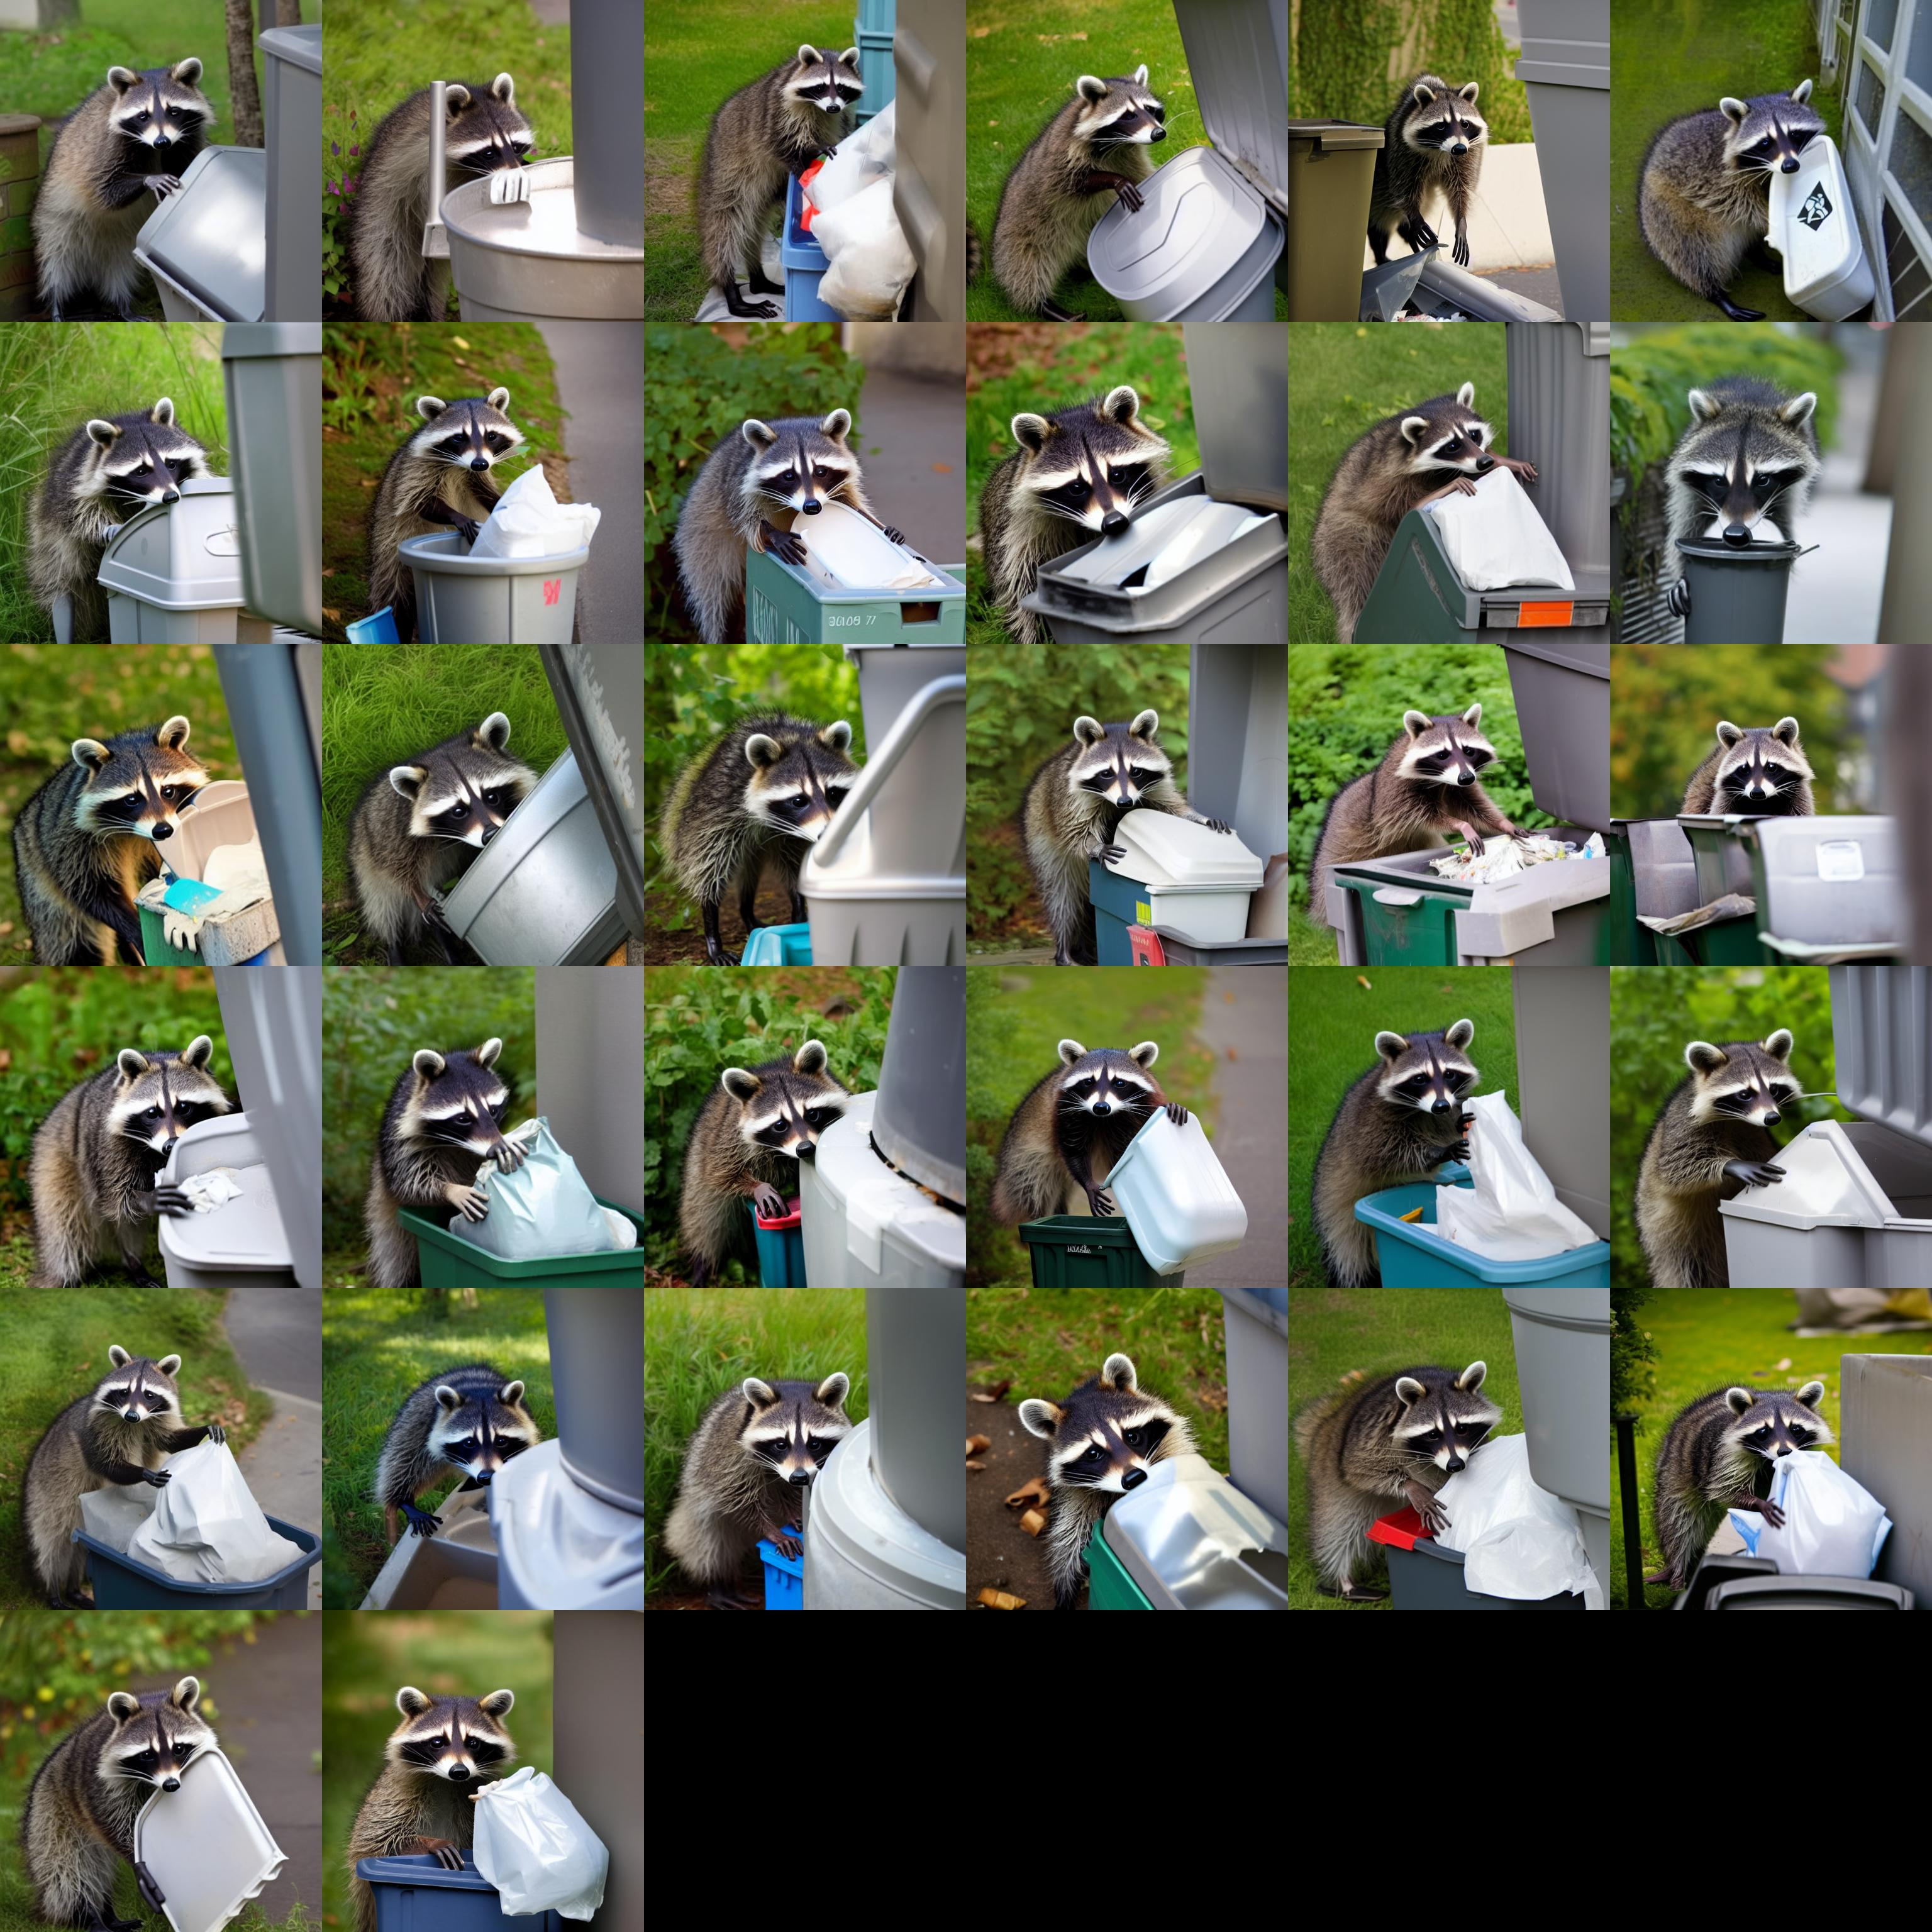raccoon: (11, 704, 214, 959), (25, 1026, 234, 1265), (18, 1670, 218, 1918), (27, 55, 223, 303), (985, 58, 1173, 301), (341, 69, 534, 304), (1306, 379, 1497, 610), (1635, 74, 1833, 297), (347, 701, 538, 927), (669, 400, 872, 612), (658, 1355, 855, 1575), (1304, 1341, 1507, 1552), (985, 375, 1182, 593), (1628, 1016, 1812, 1246), (686, 41, 867, 272), (18, 1339, 193, 1573), (671, 1031, 858, 1247), (660, 695, 863, 893), (364, 1030, 531, 1272), (21, 393, 211, 598), (1014, 1346, 1205, 1543), (357, 380, 533, 594), (1313, 1010, 1488, 1224), (987, 1026, 1171, 1228), (1649, 1368, 1840, 1546), (349, 1677, 527, 1861), (1318, 701, 1502, 867), (1017, 706, 1178, 895), (1656, 368, 1826, 547), (373, 1357, 541, 1511), (1364, 65, 1493, 260), (1683, 709, 1819, 817)
